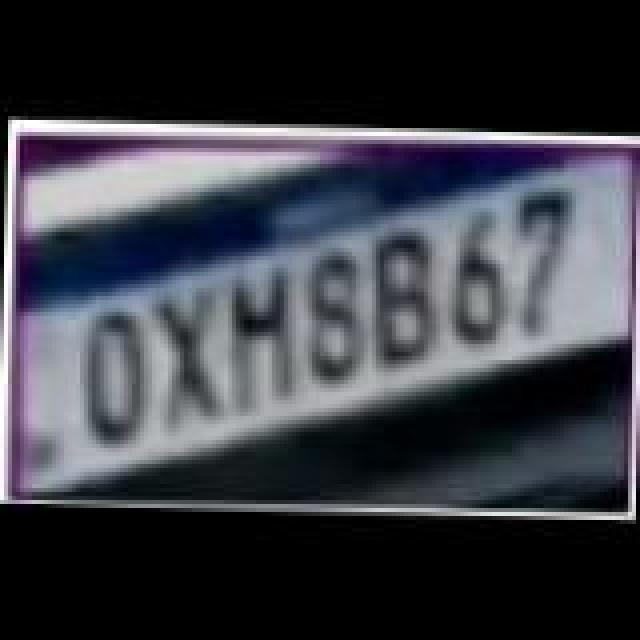6: (440, 214, 516, 354)
7: (506, 188, 578, 340)
8: (292, 248, 372, 388)
B: (362, 230, 446, 370)
M: (220, 266, 308, 414)
O: (68, 308, 152, 452)
X: (144, 286, 228, 430)
